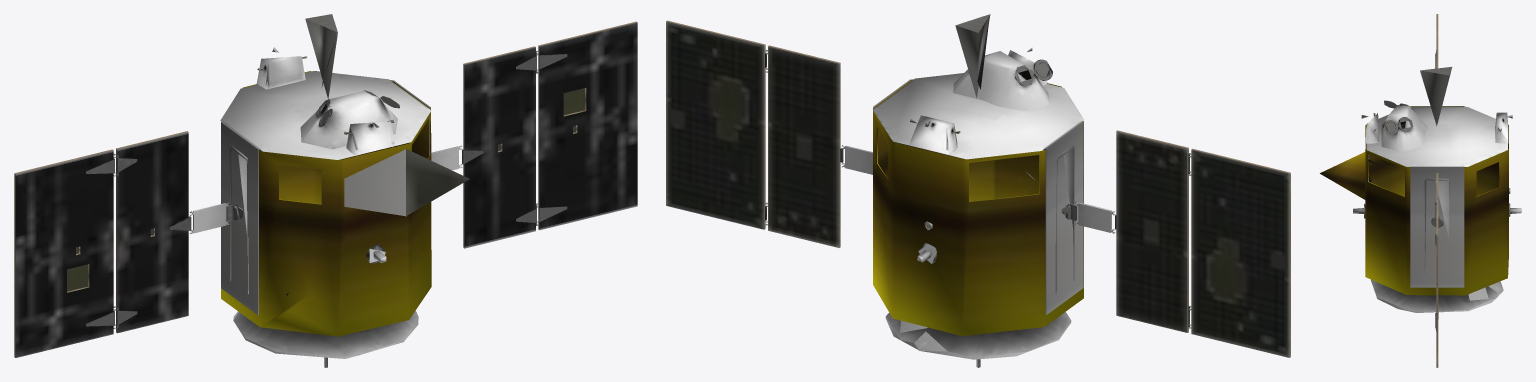
Rendered from space-clementine.glb.
3 renders of one model, left to right at view 1: azimuth 30°, elevation 25°; view 2: azimuth 150°, elevation 25°; view 3: azimuth 270°, elevation 25°, orthographic. The views are drawn at different scales.
Parts seen in each view (by area): view 1: tex_01, foil_gold, foil_white, AO_dish, AO_hinges, shiny_panel; view 2: shiny_panel, foil_gold, foil_white, tex_01, AO_dish, AO_hinges; view 3: foil_gold, tex_01, foil_white, AO_dish.
Part boxes in pixels (x1,y1,x2,y2): tex_01: [14, 14, 637, 357]; foil_gold: [221, 71, 447, 336]; foil_white: [220, 56, 431, 159]; AO_dish: [233, 171, 418, 367]; AO_hinges: [85, 50, 567, 328]; shiny_panel: [67, 88, 584, 291]; shiny_panel: [666, 21, 1289, 357]; foil_gold: [873, 79, 1083, 336]; foil_white: [873, 50, 1084, 159]; tex_01: [666, 14, 1290, 357]; AO_dish: [885, 170, 1071, 367]; AO_hinges: [765, 49, 1191, 328]; foil_gold: [1320, 106, 1508, 295]; tex_01: [1361, 14, 1512, 367]; foil_white: [1366, 105, 1508, 166]; AO_dish: [1353, 203, 1521, 319].
Bounding box in the file's own units: 4.13 × 2.18 × 1.6.
7 materials, 6 textured.
